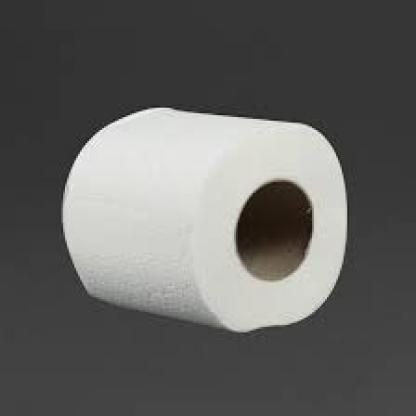tissue: (62, 106, 352, 340)
